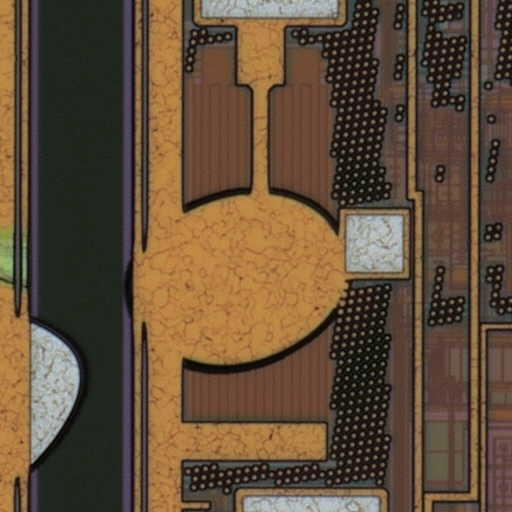BLOCK ETCH: (117, 178, 366, 385)
